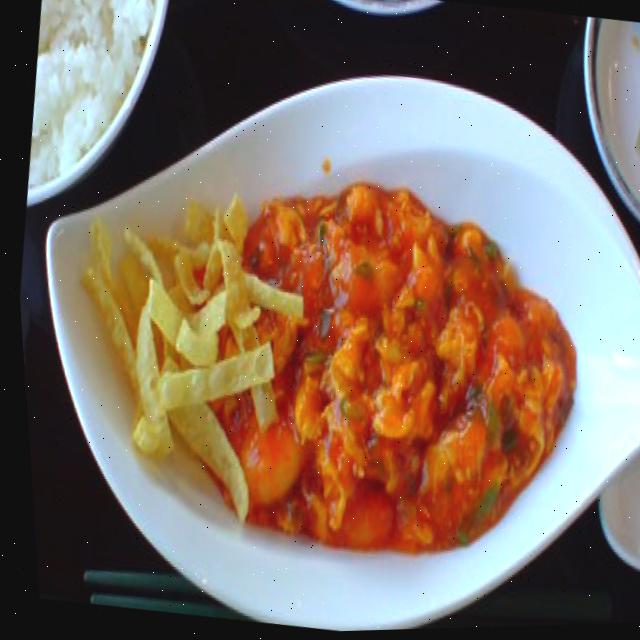熟制海鲜: (341, 0, 640, 581)
